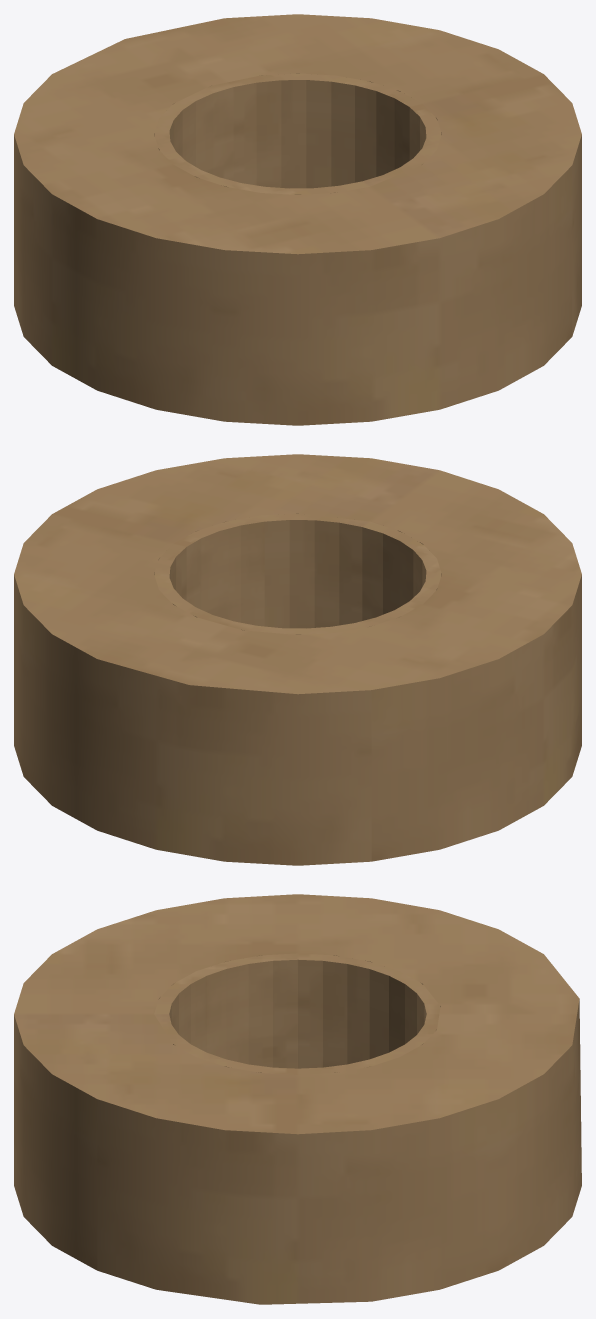
The model's file is ALV-DRY-007_lod1.glb.
3 renders of one model, top to bottom at view 1: azimuth 30°, elevation 25°; view 2: azimuth 150°, elevation 25°; view 3: azimuth 270°, elevation 25°, orthographic.
Parts seen in each view (by area): view 1: ALV-DRY-007_rolo, ALV-DRY-007_tubete; view 2: ALV-DRY-007_rolo, ALV-DRY-007_tubete; view 3: ALV-DRY-007_rolo, ALV-DRY-007_tubete.
Boxes of the visible parts, box(x1,y1,x2,y2) form: ALV-DRY-007_rolo: box(14, 14, 581, 425); ALV-DRY-007_tubete: box(154, 73, 441, 194); ALV-DRY-007_rolo: box(14, 454, 581, 865); ALV-DRY-007_tubete: box(154, 513, 441, 634); ALV-DRY-007_rolo: box(14, 894, 581, 1304); ALV-DRY-007_tubete: box(154, 953, 440, 1074).
Bounding box in the file's own units: 0.15 × 0.05 × 0.15.
Materials: 1 (1 with a texture image).
